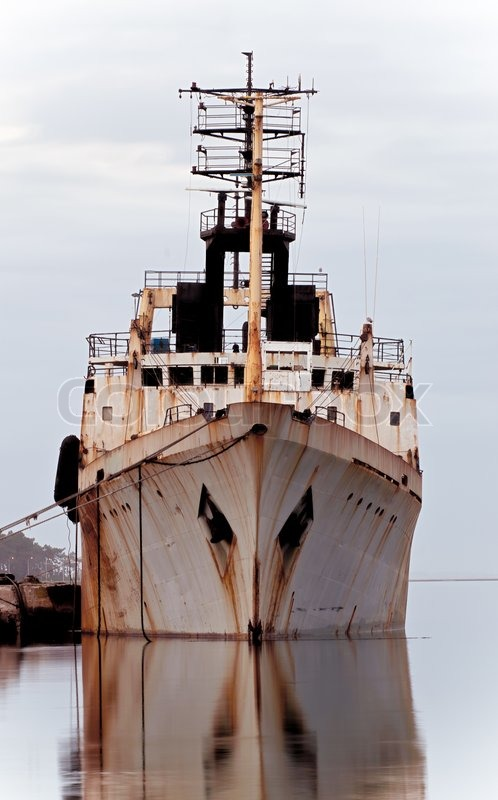rust: (78, 492, 103, 626), (216, 546, 243, 617), (265, 548, 284, 631), (246, 328, 263, 400), (250, 436, 267, 501), (134, 314, 152, 354), (108, 562, 121, 590)
